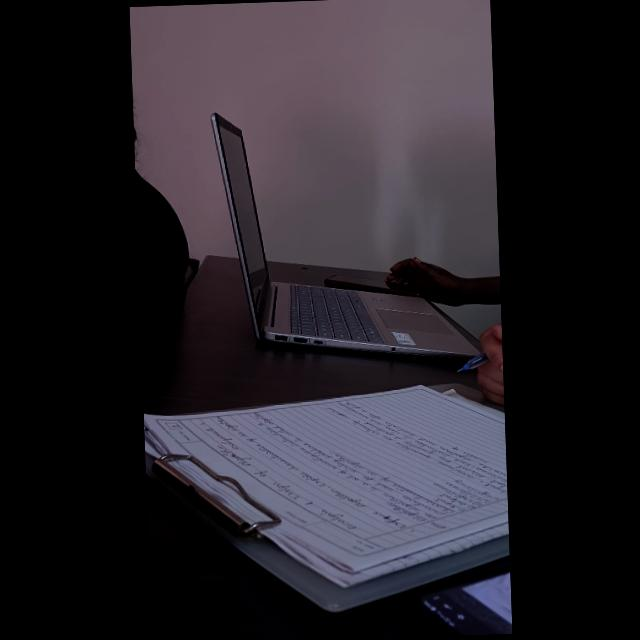laptop: (182, 86, 480, 382)
